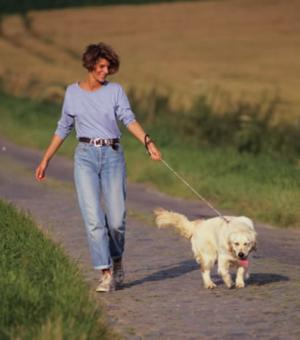person: (35, 43, 161, 291)
